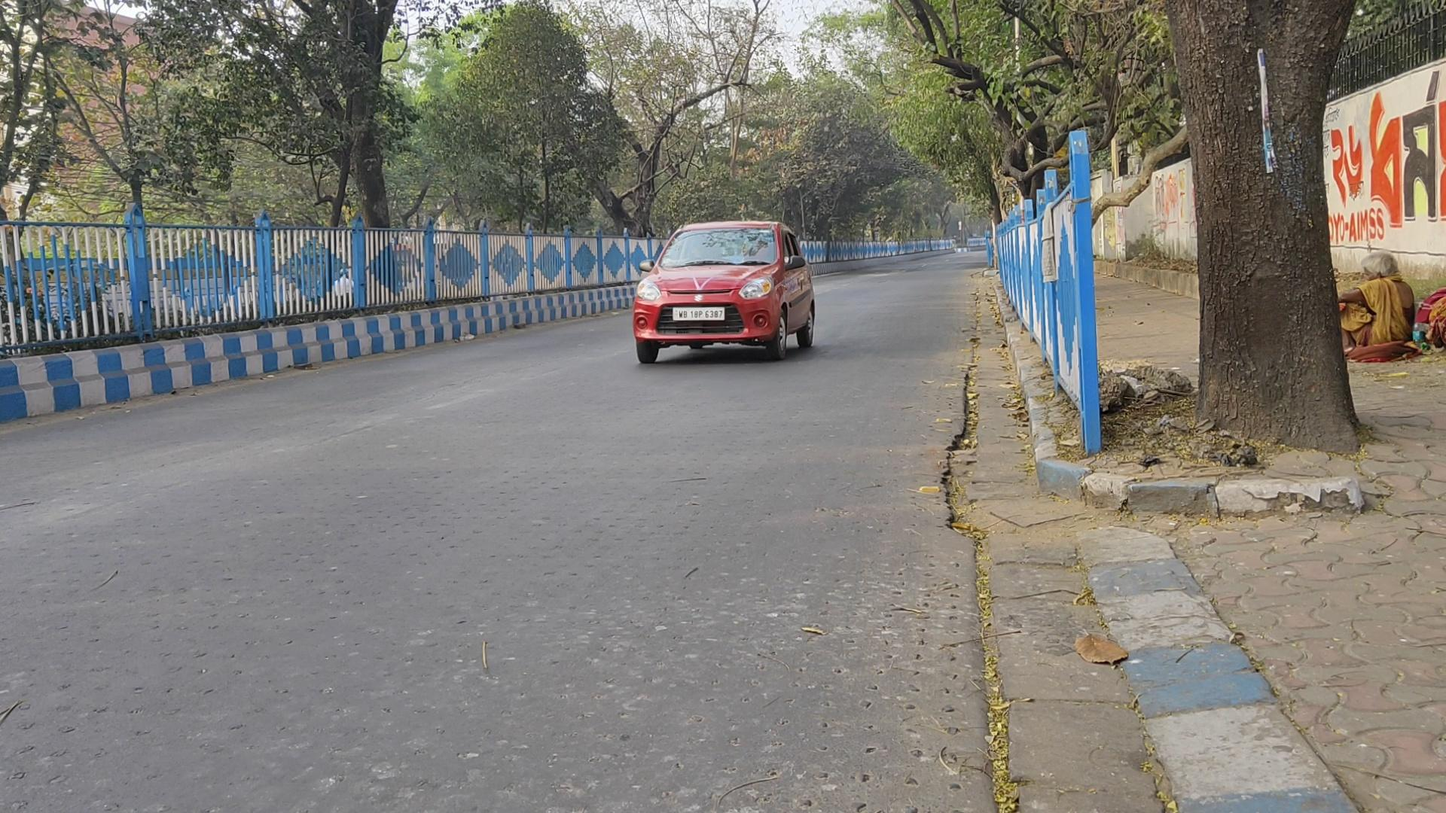car: (631, 219, 816, 366)
